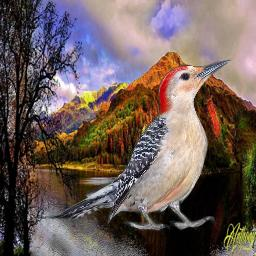Woodpecker: (43, 56, 235, 231)
